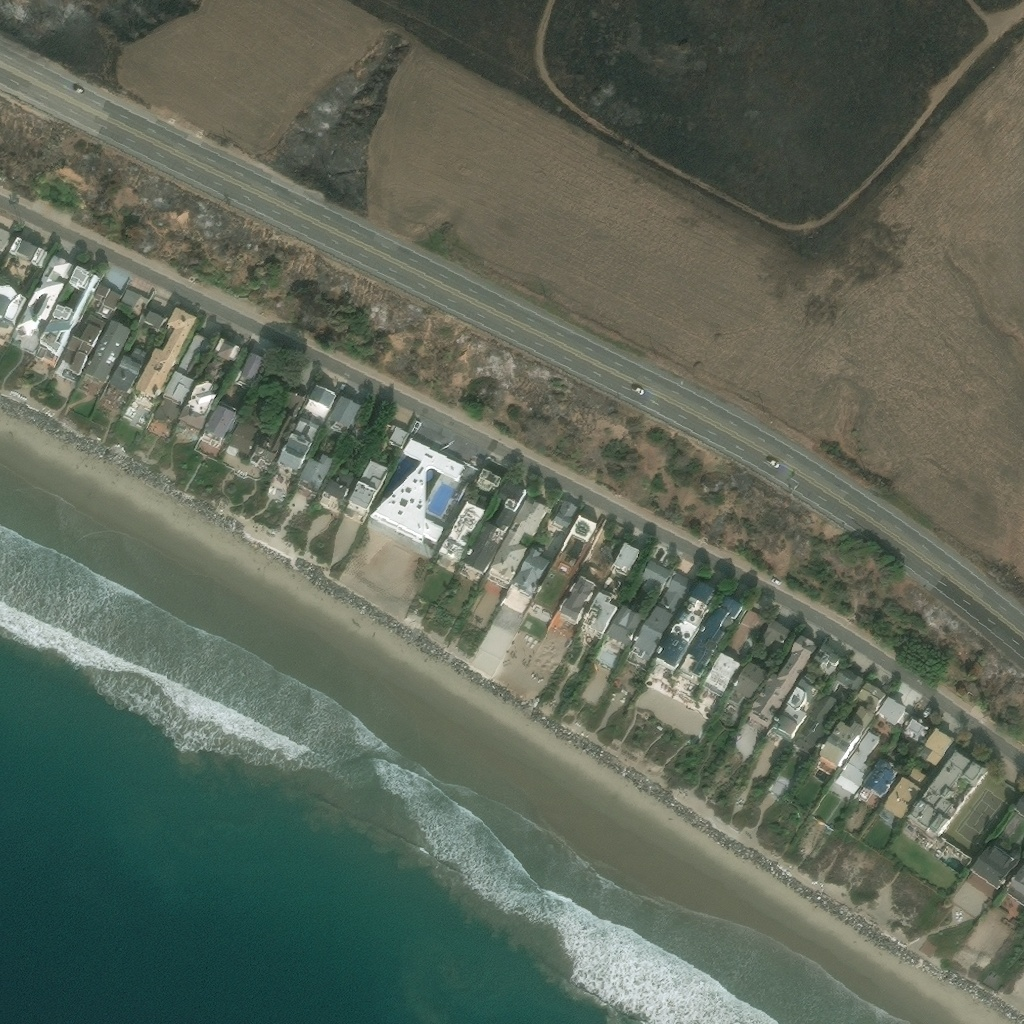0 no-damage: (905, 750, 987, 840), (457, 479, 528, 582), (744, 635, 816, 728), (625, 571, 692, 670), (648, 580, 714, 677), (134, 307, 197, 401), (677, 592, 742, 683), (38, 265, 100, 359), (484, 499, 548, 590), (370, 467, 444, 545), (12, 255, 72, 346), (249, 389, 306, 468), (828, 730, 880, 801), (433, 499, 484, 571), (772, 674, 820, 743), (82, 320, 130, 383), (595, 605, 641, 669), (401, 438, 465, 483), (792, 694, 837, 756), (968, 839, 1021, 890), (274, 417, 319, 475), (346, 459, 389, 515), (574, 591, 617, 646), (508, 545, 550, 599), (60, 322, 101, 376), (818, 719, 863, 768), (723, 609, 764, 659), (108, 346, 149, 394), (559, 575, 597, 625), (725, 661, 765, 705), (702, 652, 740, 697), (861, 756, 901, 798), (882, 777, 921, 820), (557, 513, 596, 554), (324, 395, 360, 437), (203, 400, 239, 440), (301, 384, 337, 423), (176, 333, 206, 378), (184, 377, 216, 419), (232, 353, 266, 392), (161, 370, 195, 407), (226, 418, 259, 456), (298, 454, 333, 489), (88, 285, 122, 321), (324, 465, 357, 502), (0, 285, 27, 328), (923, 727, 952, 767), (545, 497, 577, 533), (852, 682, 886, 714), (640, 559, 671, 594), (756, 619, 792, 649), (610, 541, 639, 576), (8, 236, 43, 265), (876, 696, 909, 726), (811, 644, 840, 677), (1001, 865, 1023, 906), (211, 337, 241, 366), (473, 467, 502, 496), (119, 289, 149, 317), (835, 666, 864, 693), (153, 398, 179, 427), (177, 406, 205, 430), (846, 705, 873, 728), (139, 309, 166, 332), (201, 358, 224, 384), (903, 718, 927, 742), (387, 424, 409, 449), (906, 768, 927, 788), (84, 314, 105, 330), (406, 417, 422, 436), (54, 361, 70, 377), (818, 757, 835, 772), (1012, 794, 1023, 817)
